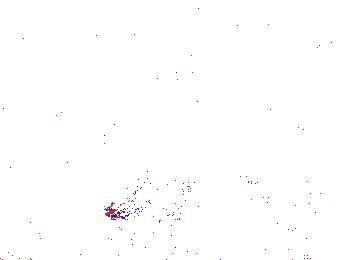flame jellyfish: (105, 166, 195, 225), (274, 172, 346, 229), (248, 159, 293, 207)
